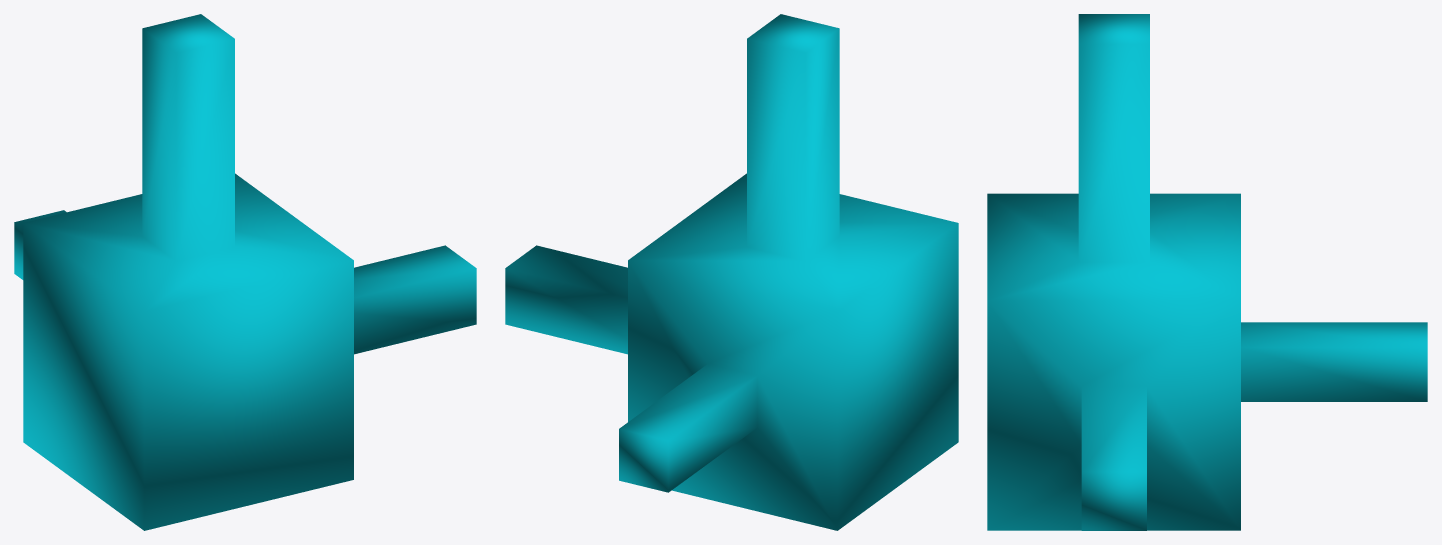
Rendered from stubbyarrows.fbx.
3 renders of one model, left to right at view 1: azimuth 30°, elevation 25°; view 2: azimuth 150°, elevation 25°; view 3: azimuth 270°, elevation 25°, orthographic. The views are drawn at different scales.
Parts seen in each view (by area): view 1: Cube; view 2: Cube; view 3: Cube.
Boxes of the visible parts, x1=… form: Cube: x1=14, y1=14, x2=476, y2=530; Cube: x1=505, y1=14, x2=958, y2=530; Cube: x1=987, y1=14, x2=1427, y2=530.
Size of the model in its own units: 0.7986 by 0.8652 by 0.7702.
